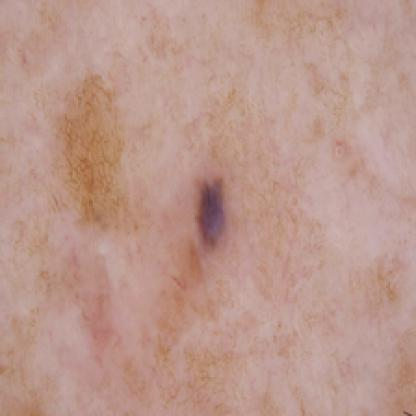benign: (176, 167, 242, 247)
